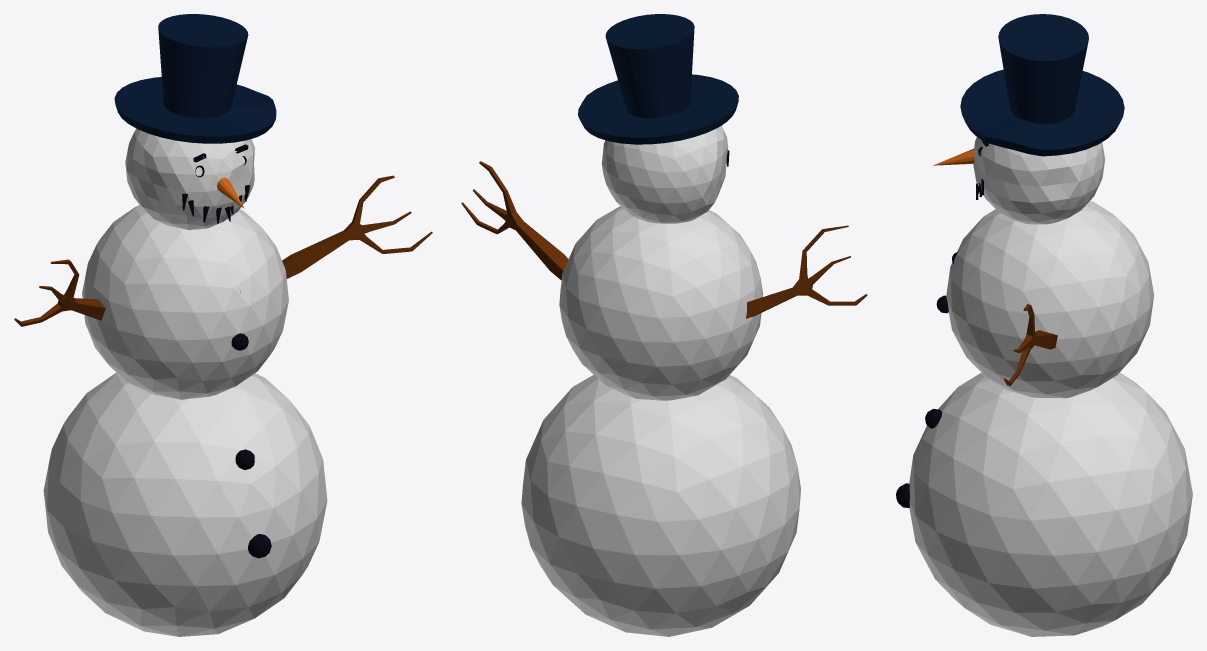
File: snehulak2.fbx
The picture shows the model from 3 angles, left to right: view 1: azimuth 30°, elevation 25°; view 2: azimuth 150°, elevation 25°; view 3: azimuth 270°, elevation 25°; orthographic projection.
Visible parts, largest first — view 1: Icosphere.019, Icosphere.018, Cylinder.001, Icosphere.017, Cube.030, Cube.031; view 2: Icosphere.019, Icosphere.018, Cylinder.001, Icosphere.017, Cube.030, Cube.031; view 3: Icosphere.019, Icosphere.018, Cylinder.001, Icosphere.017, Cube.030.
Part boxes in pixels (x1,y1,x2,y2): Icosphere.019: [43, 372, 327, 636]; Icosphere.018: [82, 205, 288, 399]; Cylinder.001: [114, 14, 276, 143]; Icosphere.017: [125, 128, 254, 229]; Cube.030: [282, 175, 432, 278]; Cube.031: [14, 259, 105, 326]; Icosphere.019: [521, 374, 800, 636]; Icosphere.018: [559, 206, 763, 400]; Cylinder.001: [578, 14, 738, 144]; Icosphere.017: [601, 126, 728, 223]; Cube.030: [461, 161, 568, 280]; Cube.031: [746, 225, 867, 318]; Icosphere.019: [909, 372, 1192, 636]; Icosphere.018: [946, 200, 1154, 398]; Cylinder.001: [960, 14, 1124, 156]; Icosphere.017: [973, 137, 1105, 224]; Cube.030: [1004, 304, 1057, 386].
Size of the model in its own units: 177 by 395 by 286.
